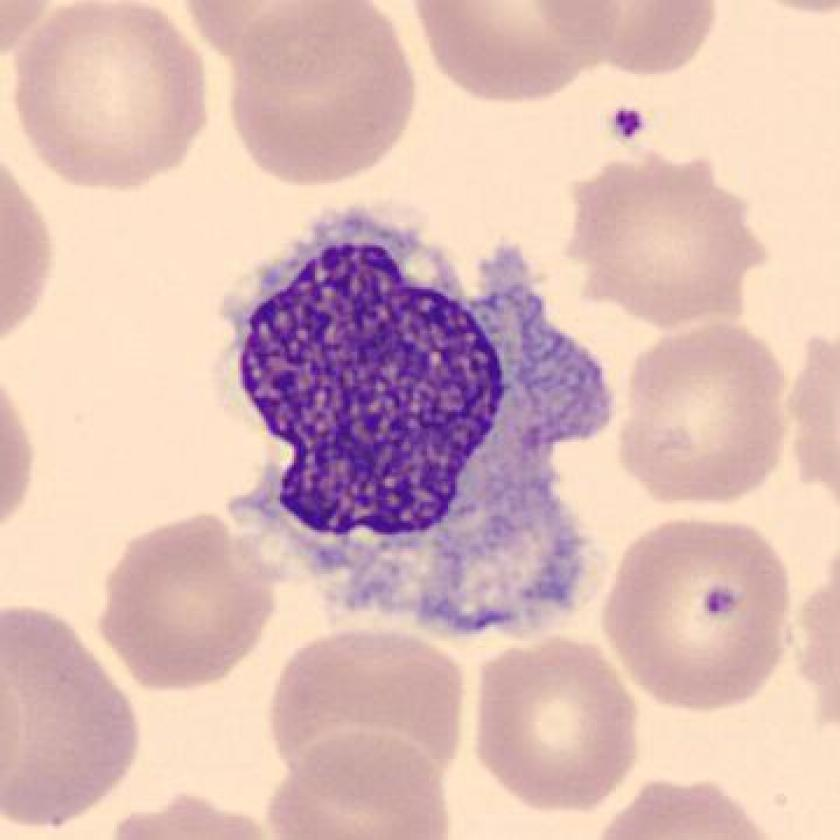monocyte: (197, 191, 640, 658)
